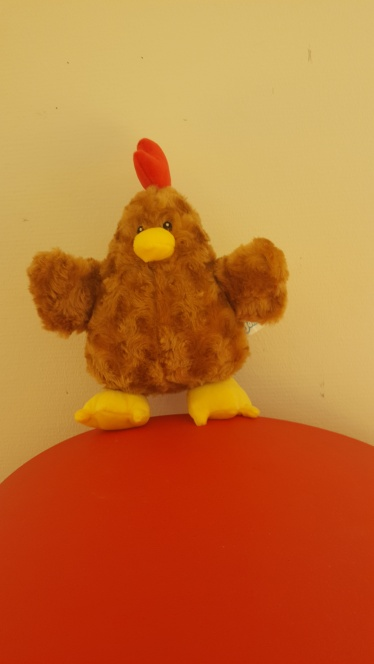chicken_front: (25, 140, 289, 429)
